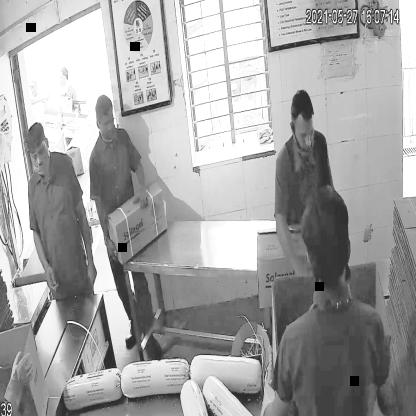no_goggles: (291, 116, 314, 146), (27, 141, 50, 165)
